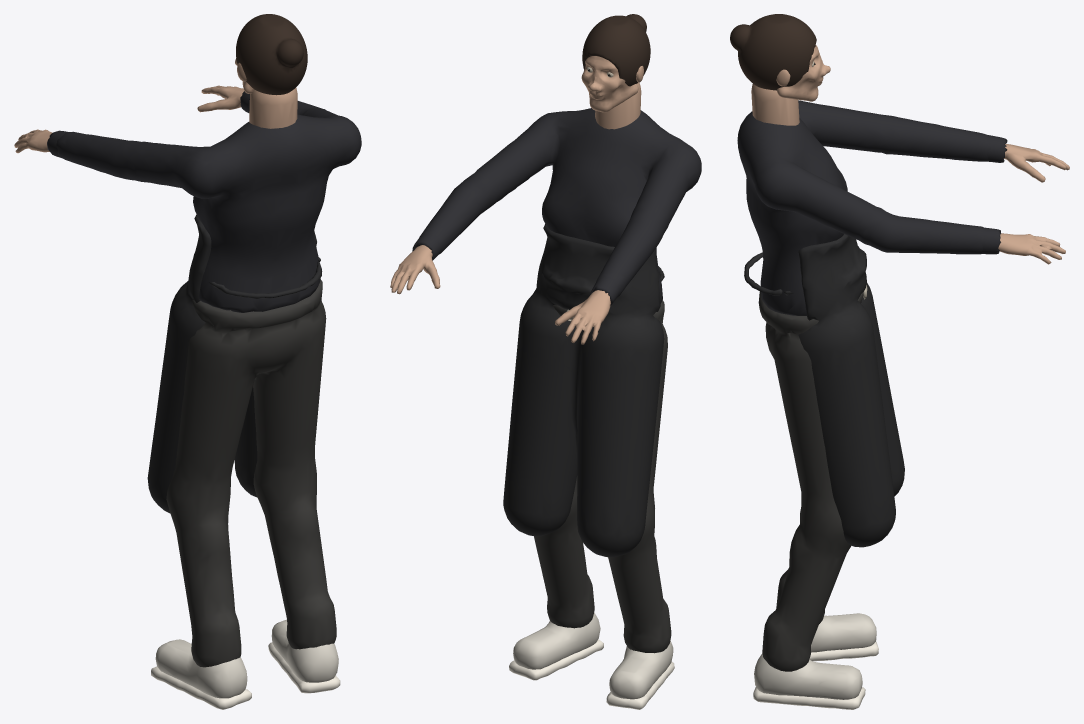
The model's file is bartender.glb.
3 views of the same model, side by side, from view 1: azimuth 30°, elevation 25°; view 2: azimuth 150°, elevation 25°; view 3: azimuth 270°, elevation 25° (orthographic). The views are drawn at different scales.
Visible parts, largest first — view 1: bartender_body, bartender_head, bartender_hands; view 2: bartender_body, bartender_head, bartender_hands; view 3: bartender_body, bartender_head, bartender_hands.
Boxes of the visible parts, bbox=[...] form: bartender_body: bbox=[56, 87, 361, 709]; bartender_head: bbox=[235, 14, 307, 95]; bartender_hands: bbox=[14, 85, 249, 158]; bartender_body: bbox=[419, 82, 701, 709]; bartender_head: bbox=[581, 14, 650, 112]; bartender_hands: bbox=[390, 233, 619, 344]; bartender_body: bbox=[737, 84, 990, 709]; bartender_head: bbox=[730, 14, 830, 101]; bartender_hands: bbox=[981, 135, 1069, 264].
Size of the model in its own units: 0.5611 by 1.56 by 0.7279.
